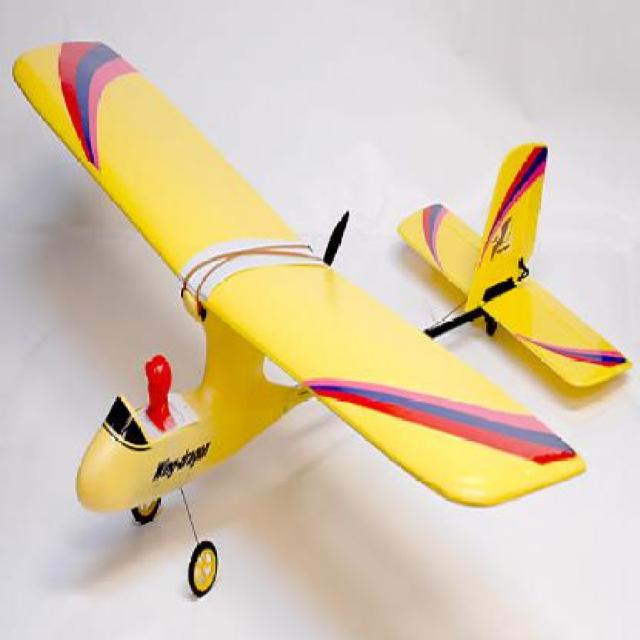iha: (10, 34, 638, 604)
